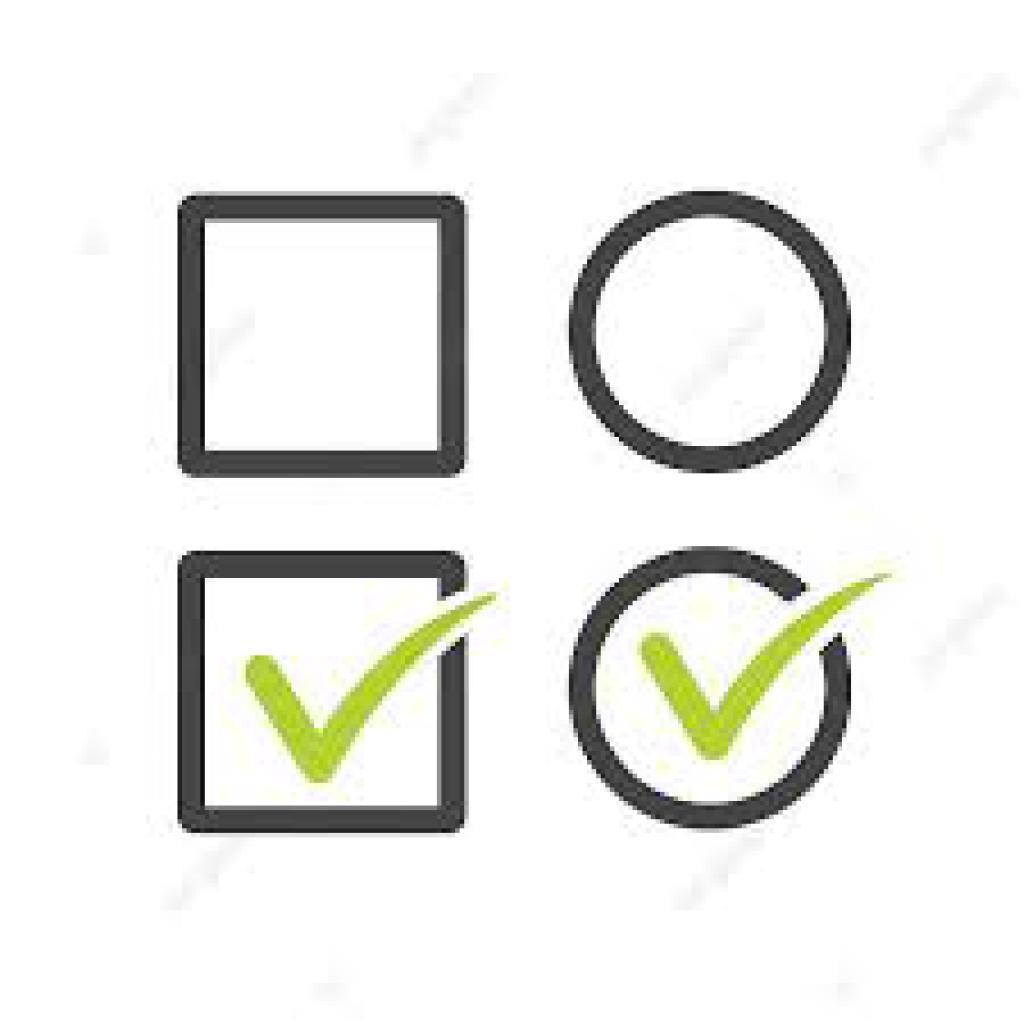checkbox: (185, 561, 463, 827), (186, 202, 463, 466)
radio: (569, 537, 868, 842), (571, 186, 857, 475)
